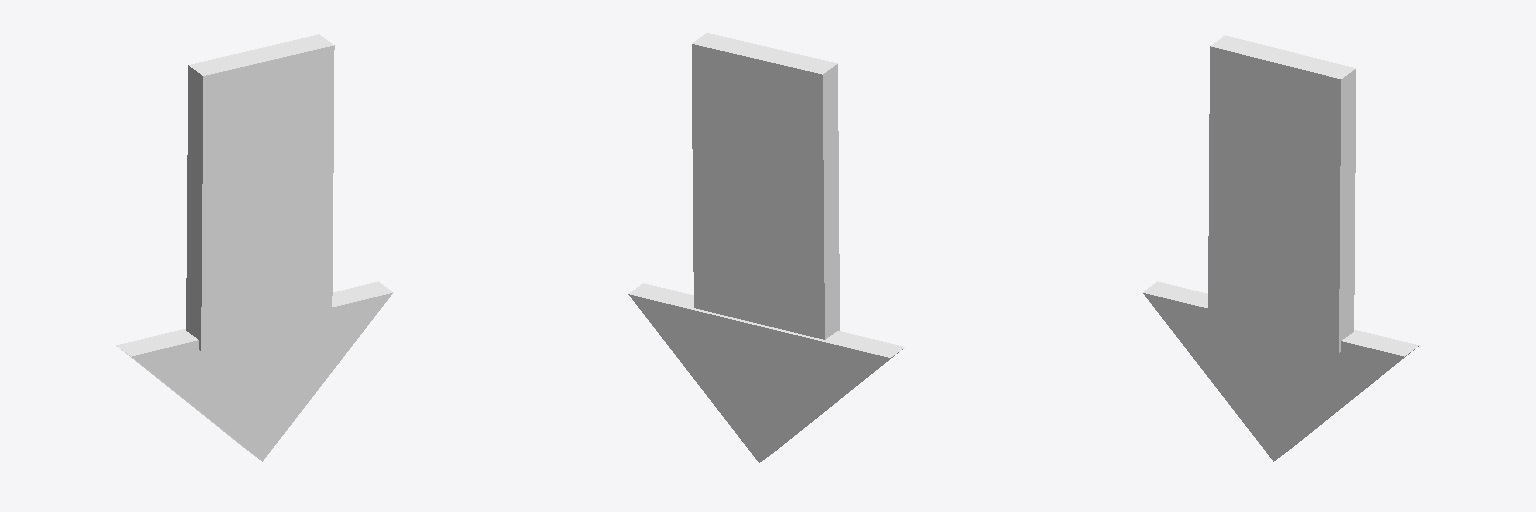
File: arrow.obj
The picture shows the model from 3 angles: view 1: azimuth 30°, elevation 25°; view 2: azimuth 150°, elevation 25°; view 3: azimuth 330°, elevation 25°; orthographic projection.
Parts seen in each view (by area): view 1: Box, Box1; view 2: Box, Box1; view 3: Box, Box1.
Boxes of the visible parts, box(x1,y1,x2,y2) form: Box: box(186, 34, 334, 350); Box1: box(116, 281, 393, 461); Box: box(692, 33, 839, 339); Box1: box(628, 283, 904, 462); Box: box(1208, 35, 1355, 352); Box1: box(1142, 281, 1419, 461).
Size of the model in its own units: 1 by 1.47 by 0.1144.